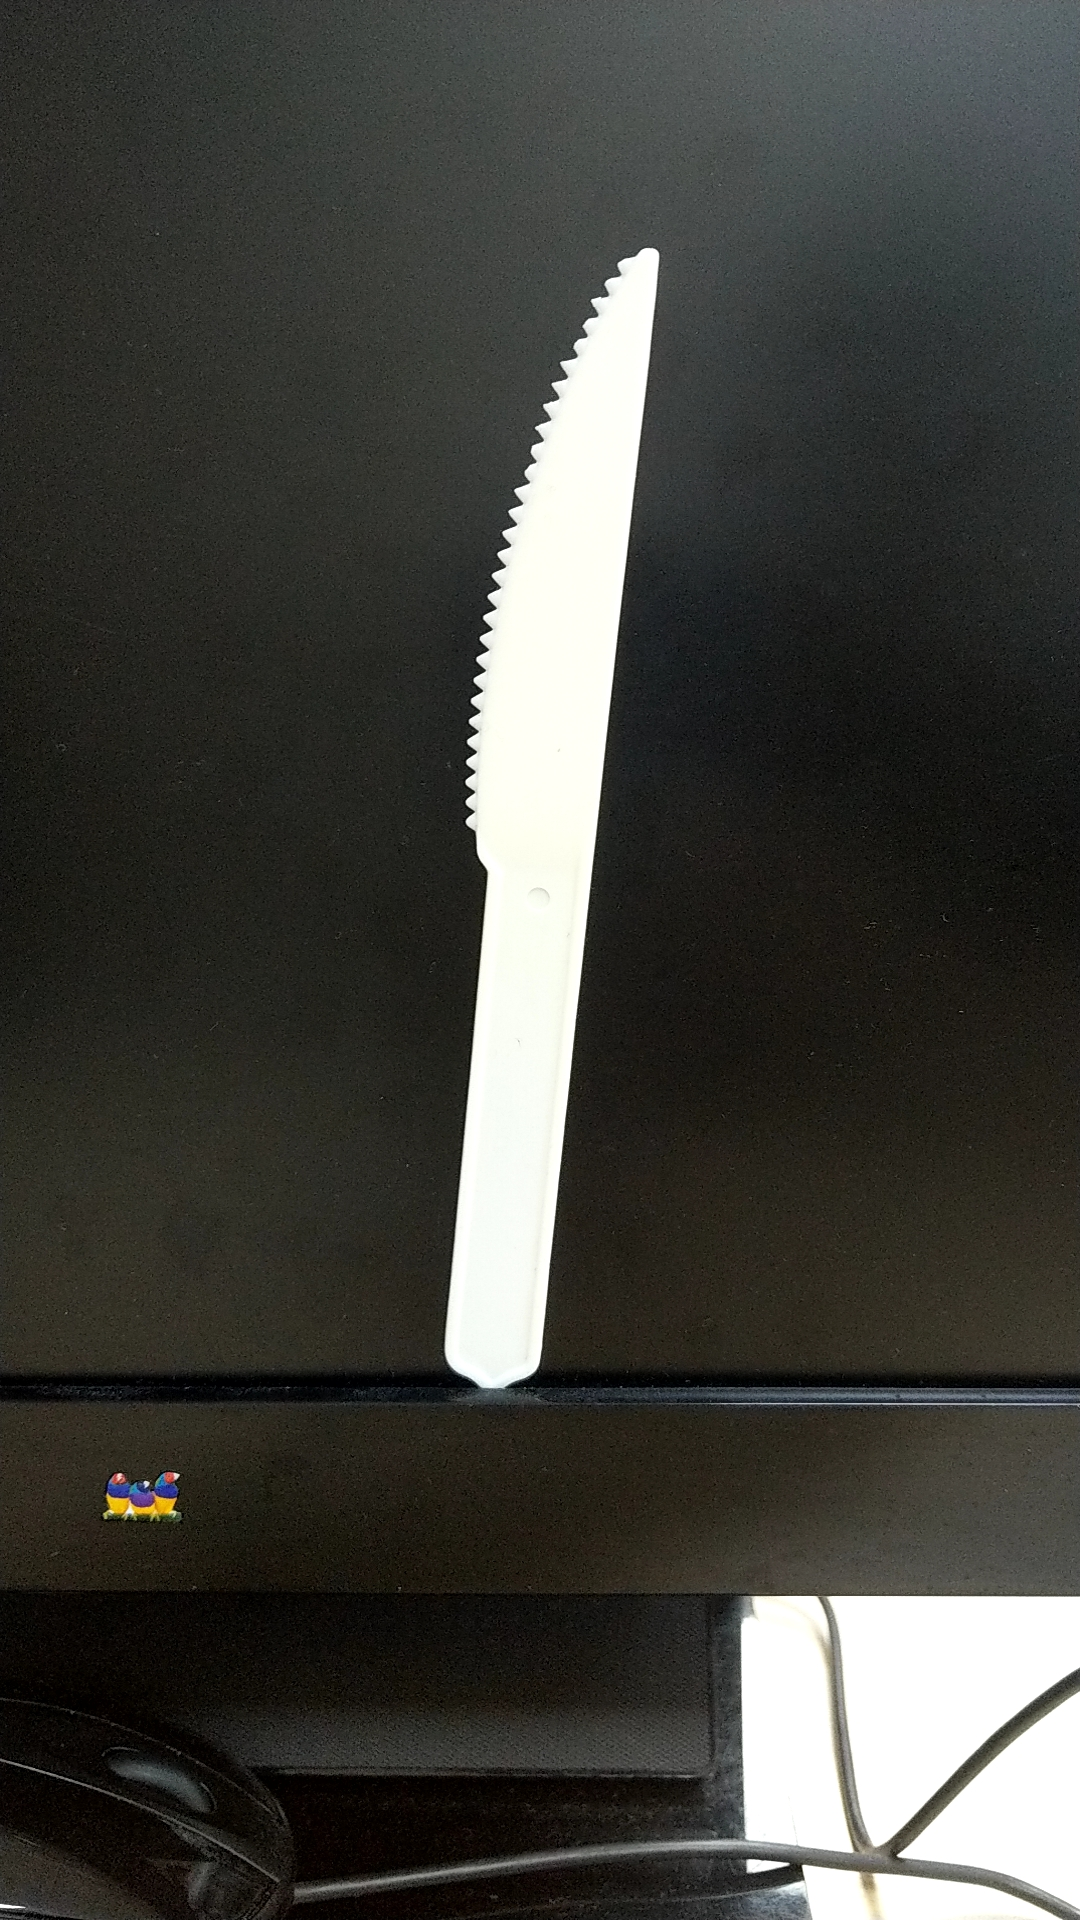knife: (409, 196, 666, 1393)
